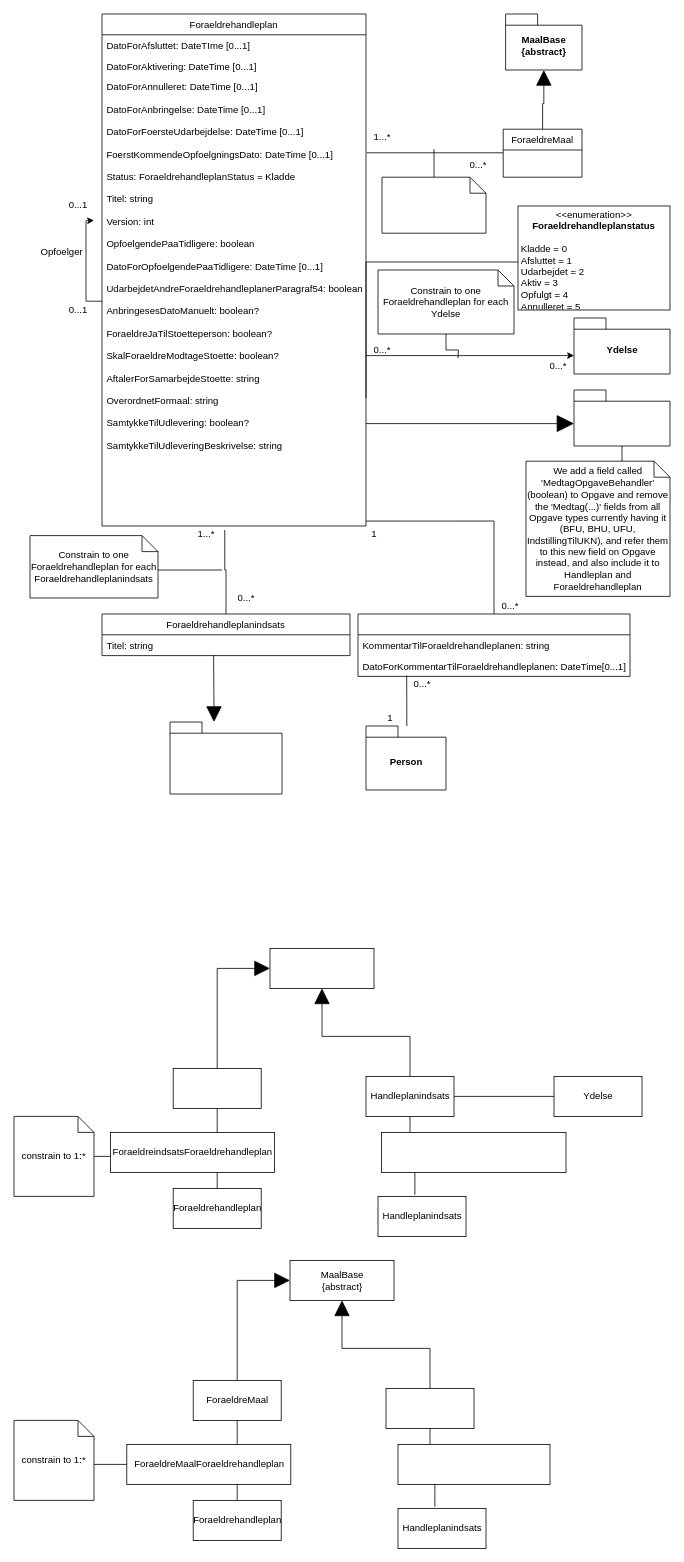
Some shapes in this 684 by 1562 pixel diagram are drawn without their labels. The shapes that lost their labels are listed below. From the top down, each one's box as (x1, y1, x2, y2) in pixels, then its label:
(381, 176, 486, 233): Constrain to one Foraeldrehandleplan for each ForaeldreMaal
(573, 389, 670, 446): Opgave
(357, 613, 630, 676): PersonForaeldrehandleplanRelation
(169, 721, 282, 794): HandleplanBase {abstract}
(269, 948, 374, 988): HandleplanindsatsBase {abstract}
(172, 1068, 261, 1108): Foraeldreindsats
(381, 1132, 566, 1172): HandleplanindsatsHandleplanindsats
(385, 1388, 474, 1428): HandleplanMaal
(397, 1444, 550, 1484): HandleplanMaalHandleplanindsats
